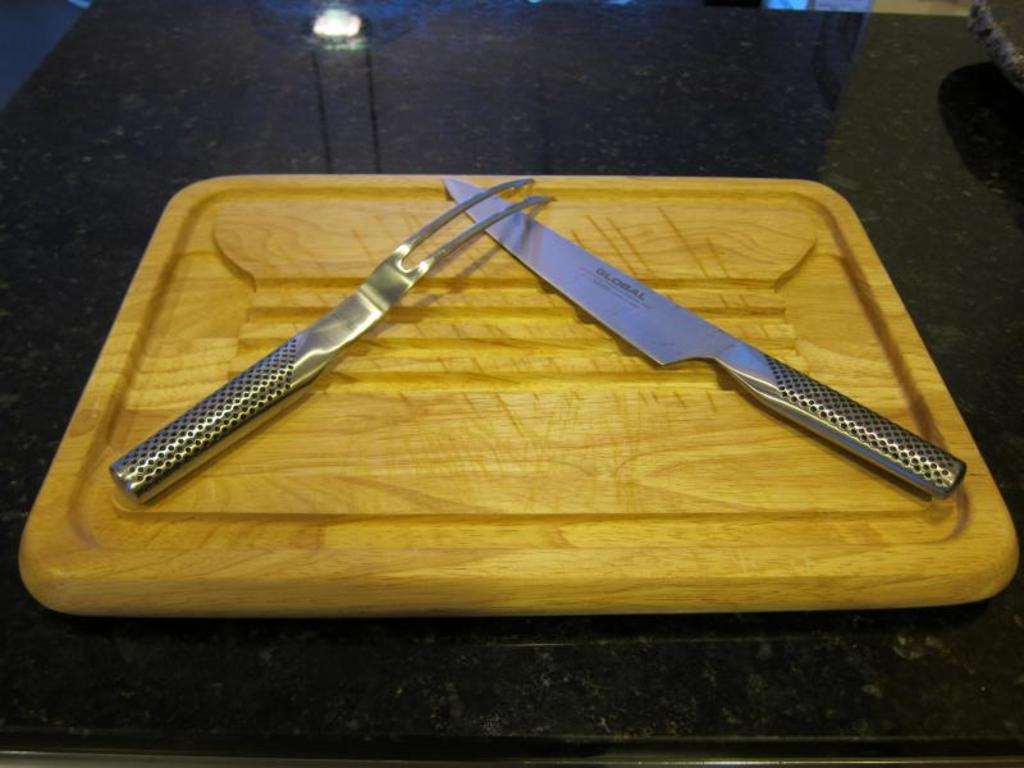knife: (443, 176, 966, 499)
